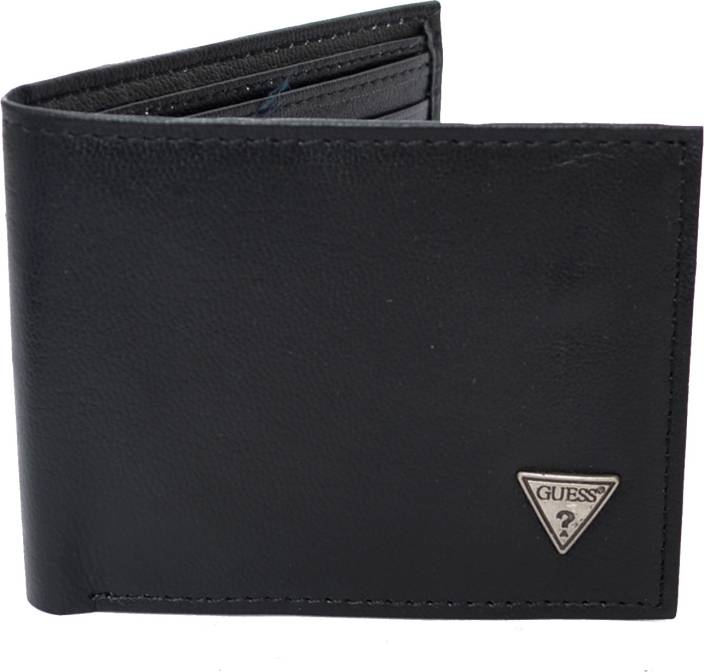monedero: (1, 1, 704, 625)
